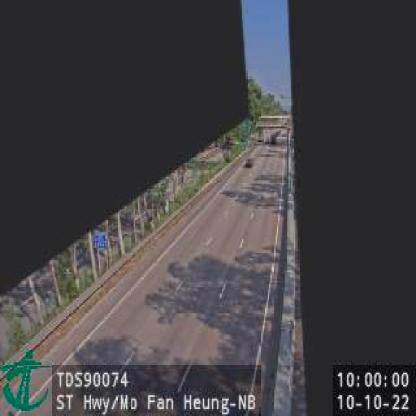Car: (245, 158, 254, 168)
